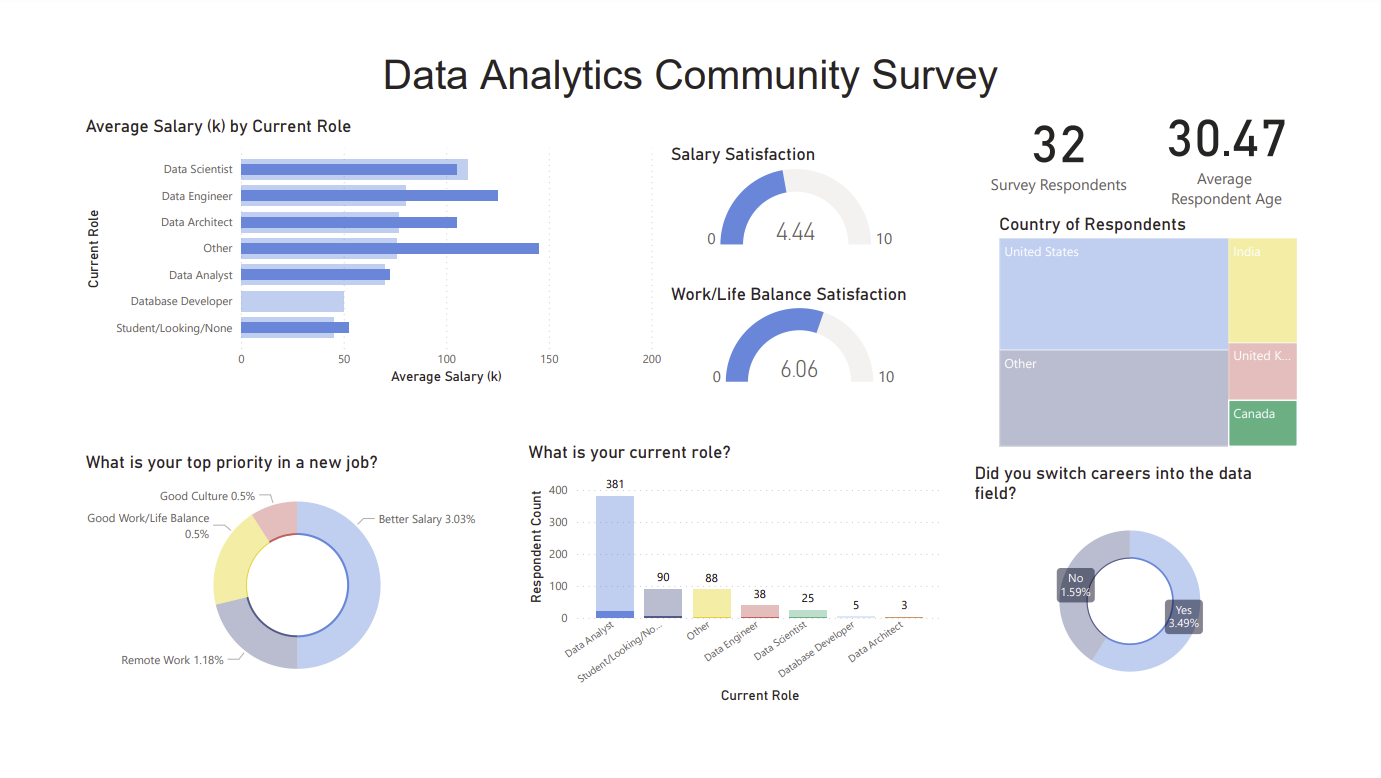

What the dashboard file says about the page in this screenshot:
{"tool":"powerbi","page":{"name":"Page 1","canvas":[1280,720],"ordinal":0},"visuals":[{"type":"textbox","box":[9.7,0,1270.3,72],"z":0},{"type":"card","fields":{"Values":["Count(Data Professional Survey.Unique ID)"]},"box":[957.8,35.6,165,139.1],"z":1000},{"type":"card","fields":{"Values":["Avg(Data Professional Survey.Q10 - Current Age)"]},"box":[1122.9,12.9,156.9,182.8],"z":2000},{"type":"donutChart","title":"Did you switch careers into the data field?","fields":{"Category":["Data Professional Survey.Q2 - Did you switch careers into Data?"],"Y":["CountNonNull(Data Professional Survey.Unique ID)"]},"box":[932,435.2,334.9,247.6],"z":3000},{"type":"barChart","fields":{"Category":["Data Professional Survey.Q1 - Which Title Best Fits your Current Role?.1"],"Y":["Avg(Data Professional Survey.Q3 - Current Yearly Salary (in USD) - Copy.2)"]},"box":[0,72.8,613.2,286.4],"z":4000},{"type":"treemap","title":"Country of Respondents","fields":{"Values":["CountNonNull(Data Professional Survey.Unique ID)"],"Group":["Data Professional Survey.Q11 - Which Country do you live in?.1"]},"box":[957.8,174.7,322,249.2],"z":5000},{"type":"donutChart","title":"What is your top priority in a new job?","fields":{"Category":["Data Professional Survey.Q8 - If you were to look for a new job today, what would be the most important thing to you?"],"Y":["CountNonNull(Data Professional Survey.Unique ID)"]},"box":[0,423.9,453,258.9],"z":6000},{"type":"gauge","title":"Work/Life Balance Satisfaction","fields":{"Y":["Avg(Data Professional Survey.Q6 - How Happy are you in your Current Position with the following? (Work/Life Balance))"],"MinValue":["Min(Data Professional Survey.Q6 - How Happy are you in your Current Position with the following? (Work/Life Balance))"],"MaxValue":["Max(Data Professional Survey.Q6 - How Happy are you in your Current Position with the following? (Work/Life Balance))"]},"box":[613.2,247.6,288,113.3],"z":7000},{"type":"gauge","title":"Salary Satisfaction","fields":{"Y":["Avg(Data Professional Survey.Q6 - How Happy are you in your Current Position with the following? (Upward Mobility))"],"MinValue":["Min(Data Professional Survey.Q6 - How Happy are you in your Current Position with the following? (Upward Mobility))"],"MaxValue":["Max(Data Professional Survey.Q6 - How Happy are you in your Current Position with the following? (Upward Mobility))"]},"box":[613.2,101.9,279.9,114.9],"z":8000},{"type":"columnChart","title":"What is your current role?","fields":{"Category":["Data Professional Survey.Q1 - Which Title Best Fits your Current Role?.1"],"Y":["CountNonNull(Data Professional Survey.Unique ID)"],"Series":["Data Professional Survey.Q1 - Which Title Best Fits your Current Role?.1"]},"box":[464.4,414.2,444.9,278.3],"z":9000}]}

Visuals, with their boxes in screenshot pixels (x1, y1, x2, y2), scaled from the page's 1280x720 canvas onto the 1381x778 screenshot:
textbox: bbox(10, 0, 1380, 78)
card - Count(Data Professional Survey.Unique ID): bbox(1033, 38, 1211, 189)
card - Avg(Data Professional Survey.Q10 - Current Age): bbox(1212, 14, 1380, 211)
"Did you switch careers into the data field?" donutChart: bbox(1006, 470, 1367, 738)
barChart - Data Professional Survey.Q1 - Which Title Best Fits your Current Role?.1 x Avg(Data Professional Survey.Q3 - Current Yearly Salary (in USD) - Copy.2): bbox(0, 79, 662, 388)
"Country of Respondents" treemap: bbox(1033, 189, 1380, 458)
"What is your top priority in a new job?" donutChart: bbox(0, 458, 489, 738)
"Work/Life Balance Satisfaction" gauge: bbox(662, 268, 972, 390)
"Salary Satisfaction" gauge: bbox(662, 110, 964, 234)
"What is your current role?" columnChart: bbox(501, 448, 981, 748)
